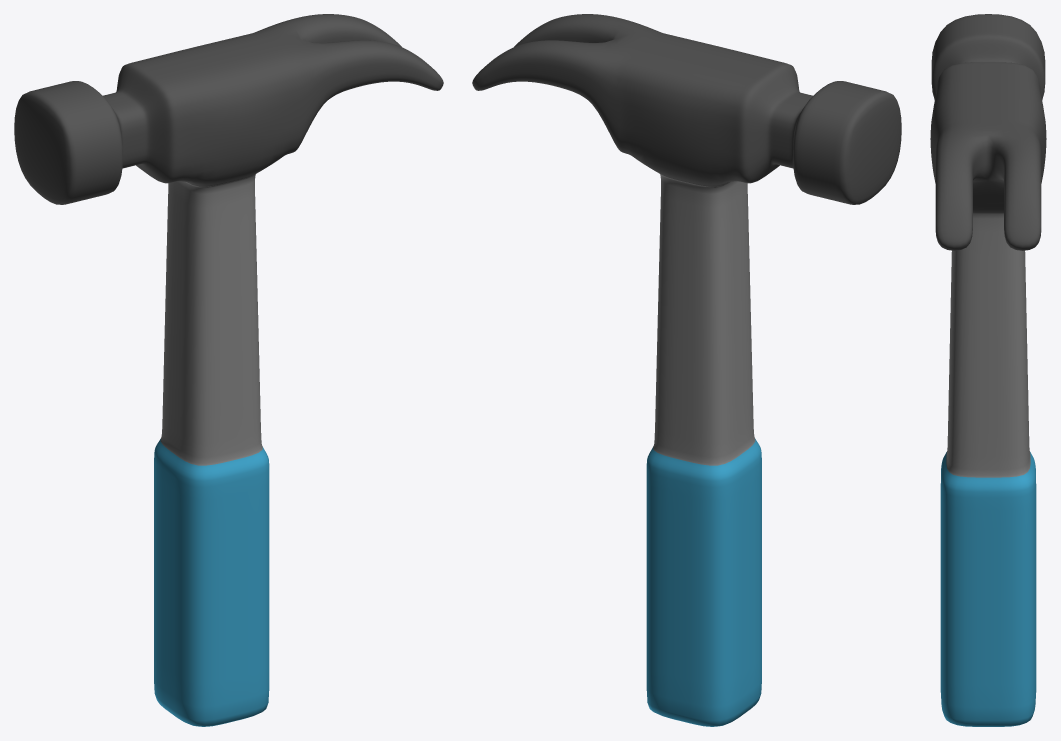
Rendered from hammer.fbx.
3 views of the same model, side by side, from view 1: azimuth 30°, elevation 25°; view 2: azimuth 150°, elevation 25°; view 3: azimuth 270°, elevation 25° (orthographic). The views are drawn at different scales.
Visible parts, largest first — view 1: instrumento_martillo; view 2: instrumento_martillo; view 3: instrumento_martillo.
Boxes of the visible parts, x1,y1,x2,y2 form: instrumento_martillo: (14, 14, 443, 726); instrumento_martillo: (472, 14, 901, 726); instrumento_martillo: (930, 14, 1046, 726).
Bounding box in the file's own units: 13.97 × 22.67 × 3.84.
